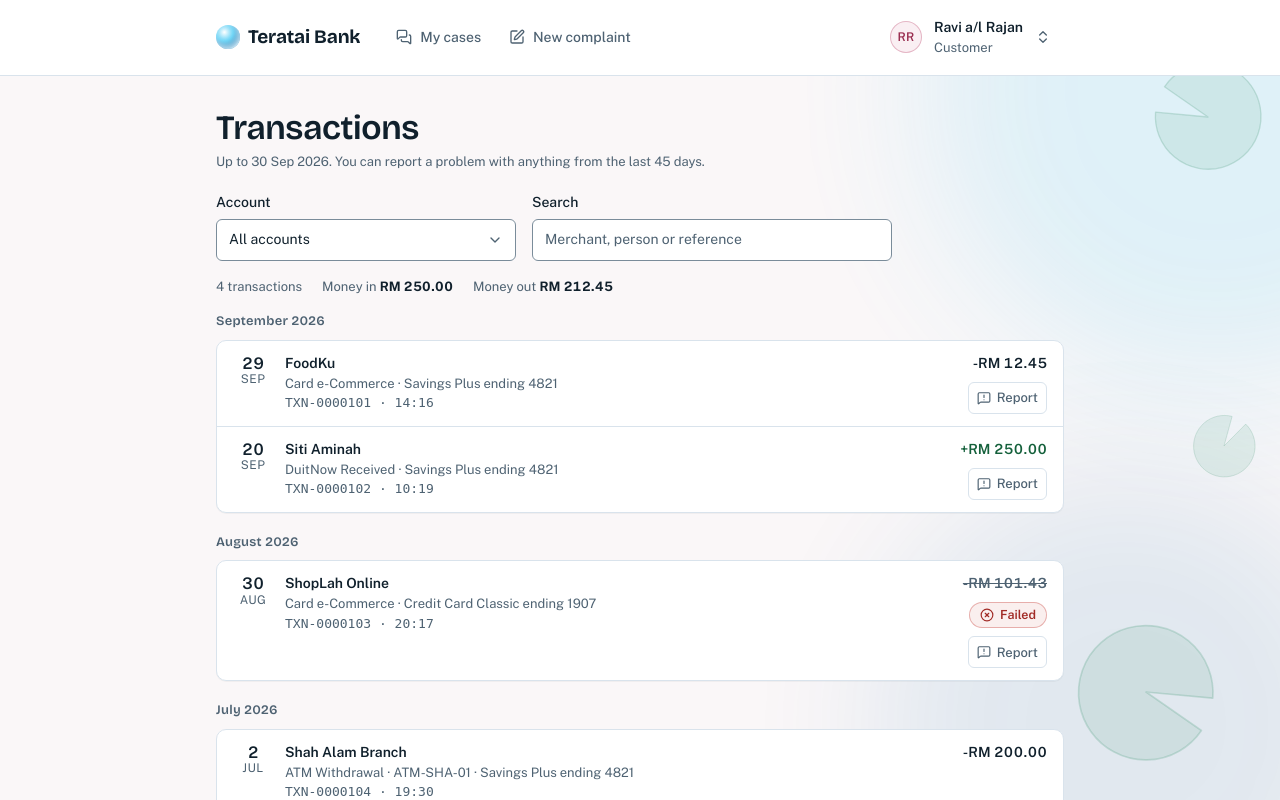
Test: Transactions › opens a new complaint with the transaction already written in
The image size is (1280, 800).
Click the button with aria-label "Report a problem with FoodKu": [1007, 398] box [968, 382, 1047, 414]
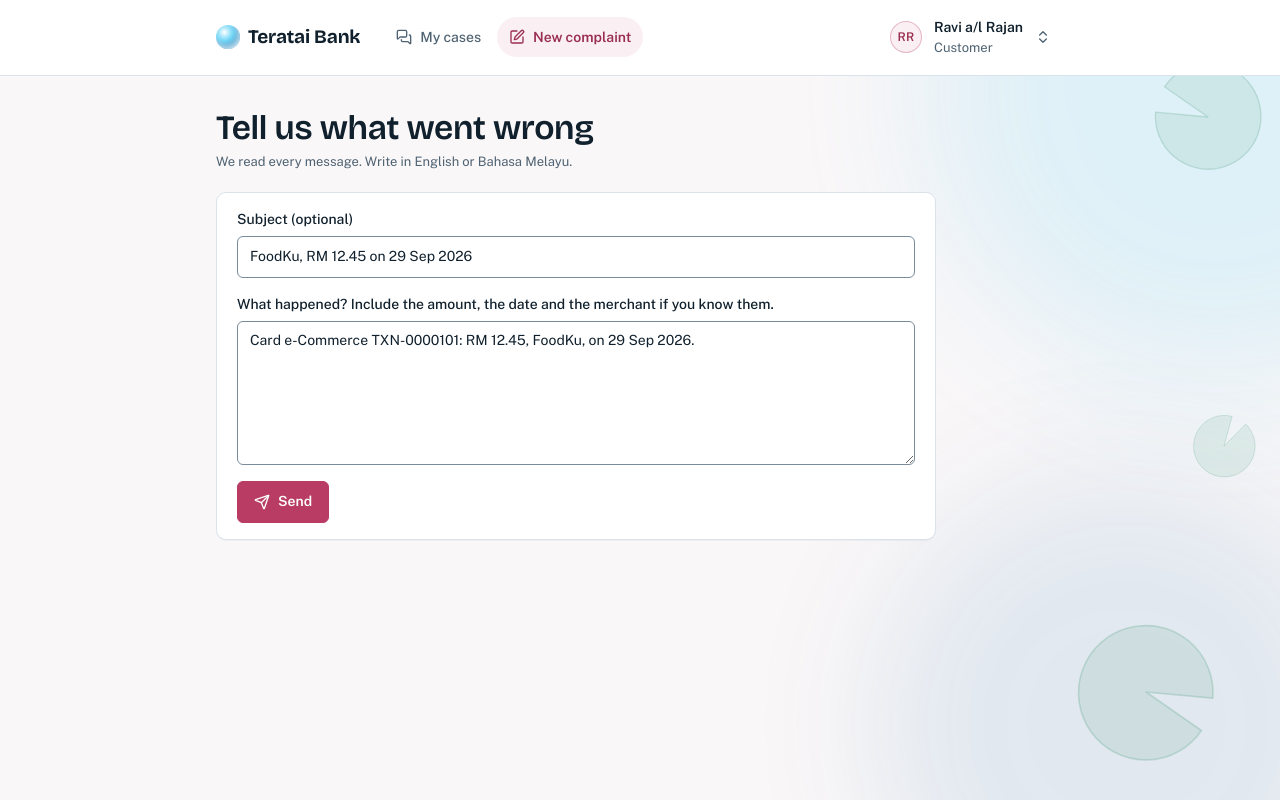
Expected: the field labelled "Subject (optional)" holds "FoodKu, RM 12.45 on 29 Sep 2026", [237, 236, 915, 278]
